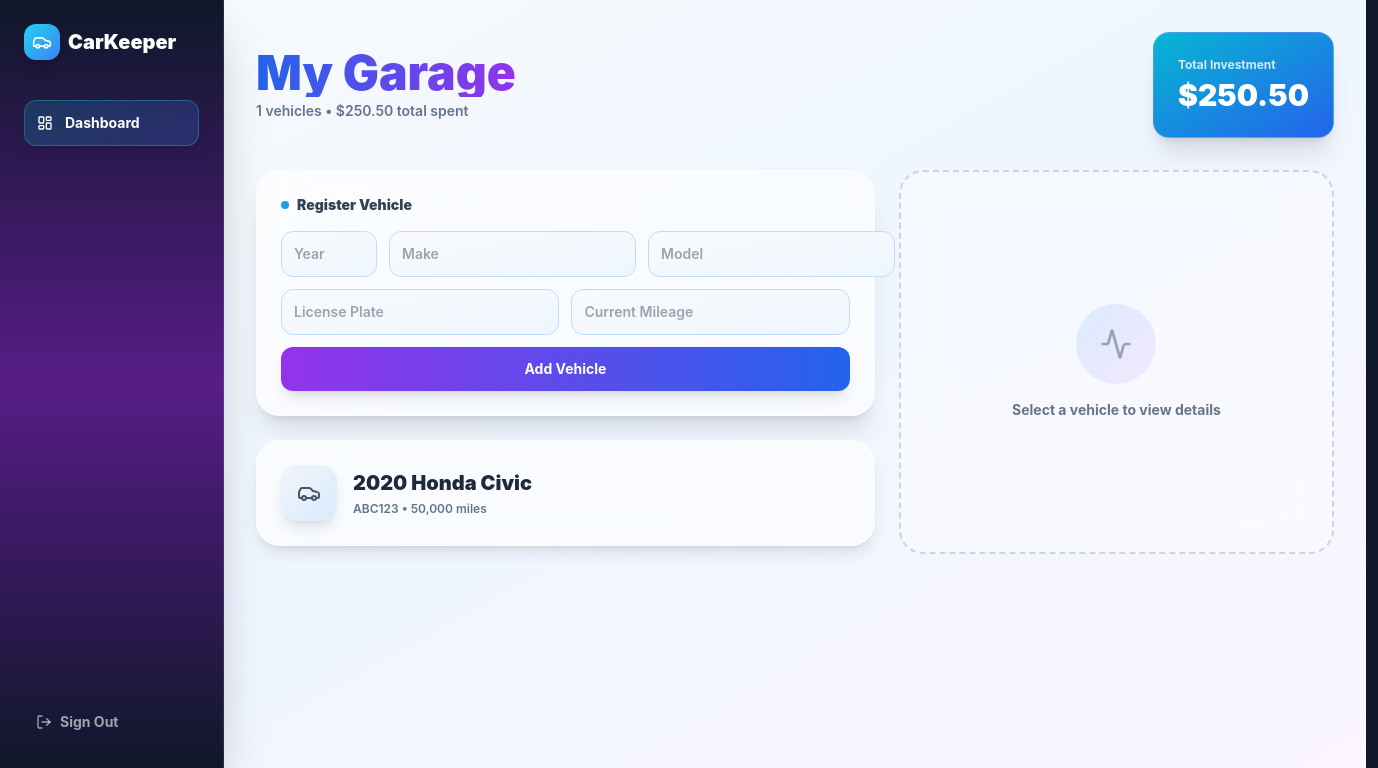
Test: service due badge › does not flag a recently serviced vehicle
The image size is (1378, 768).
Click the heading "2020 Honda Civic": (443, 483) [353,469,532,497]
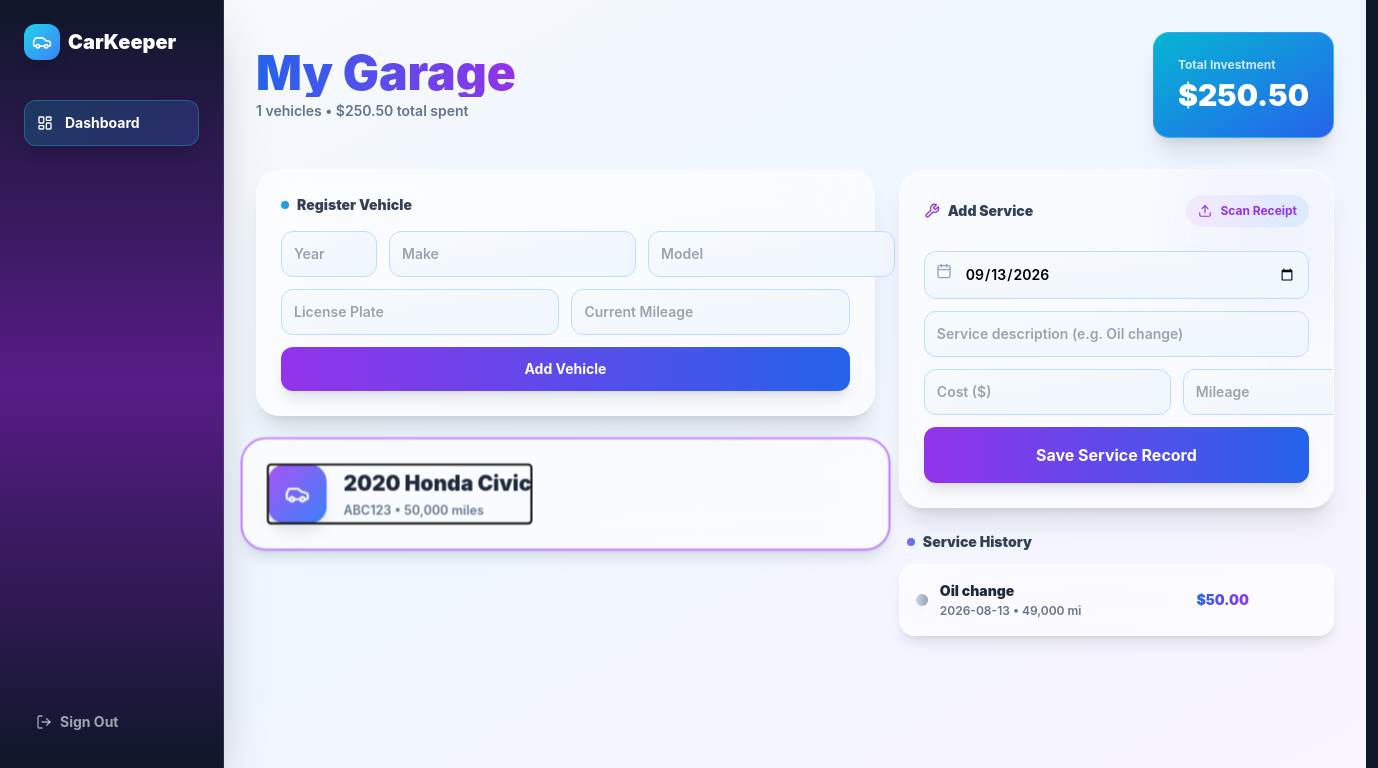
Now the button "Save Service Record" is shown, box [924,427,1309,483]
